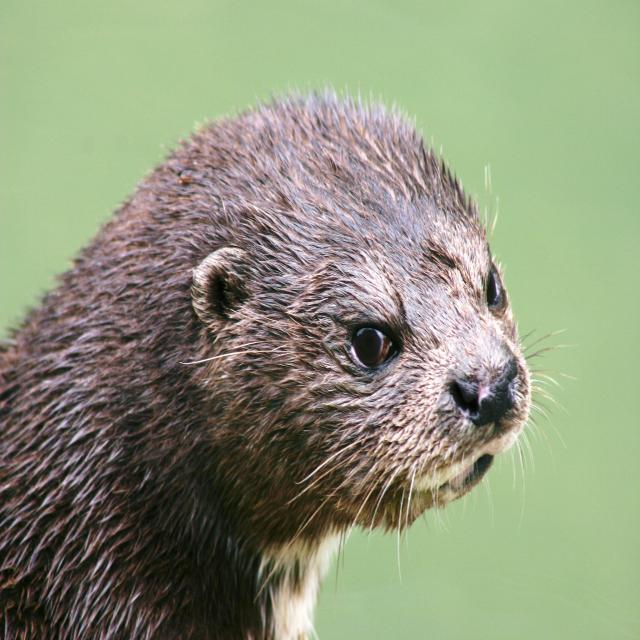otter: (1, 97, 530, 640)
